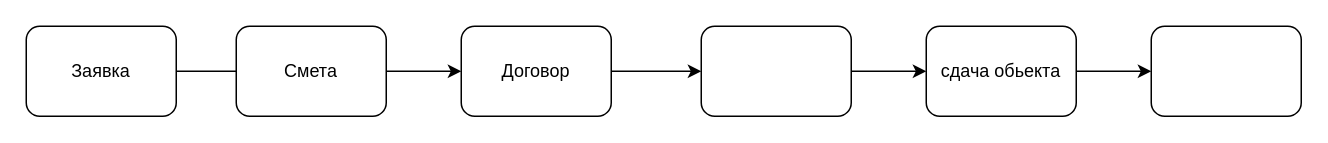
Image size: 1328x143. Some labels were removed from this diagram. The shapes that lost their labels are listed below. From the top down, each one's centre as x and y in pixels, then its label:
point (775, 70): Начало работ
point (1225, 70): Постгарантийное обслуживание
